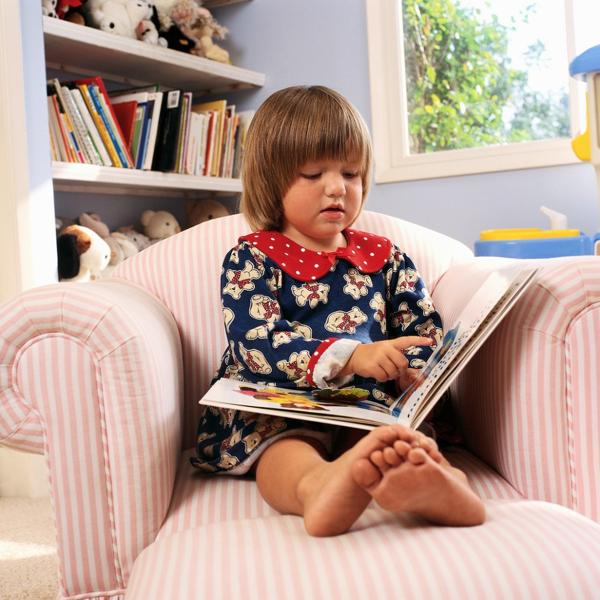person: (192, 83, 488, 538)
